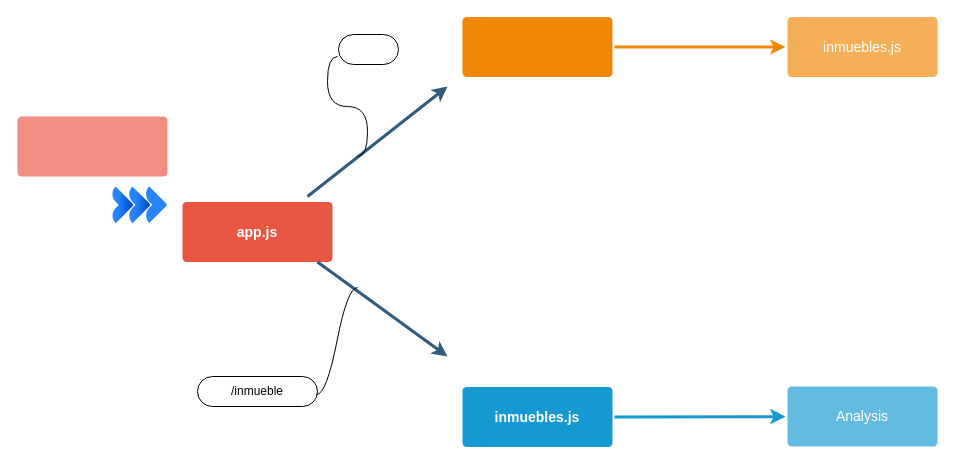
Some shapes in this 954 by 464 pixel diagram are drawn without their labels. The centre of each missing label's shape, as x and y in pixels:
"/api" goes at pixel 368 49.
"api.js" goes at pixel 537 46.
"REQ" goes at pixel 92 146.
